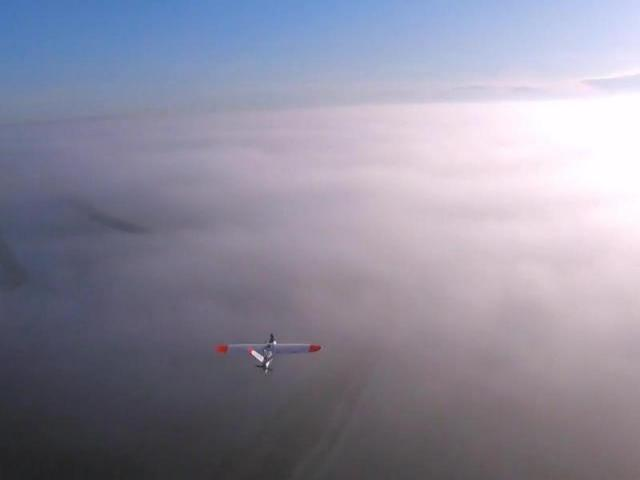hedef: (215, 329, 322, 388)
